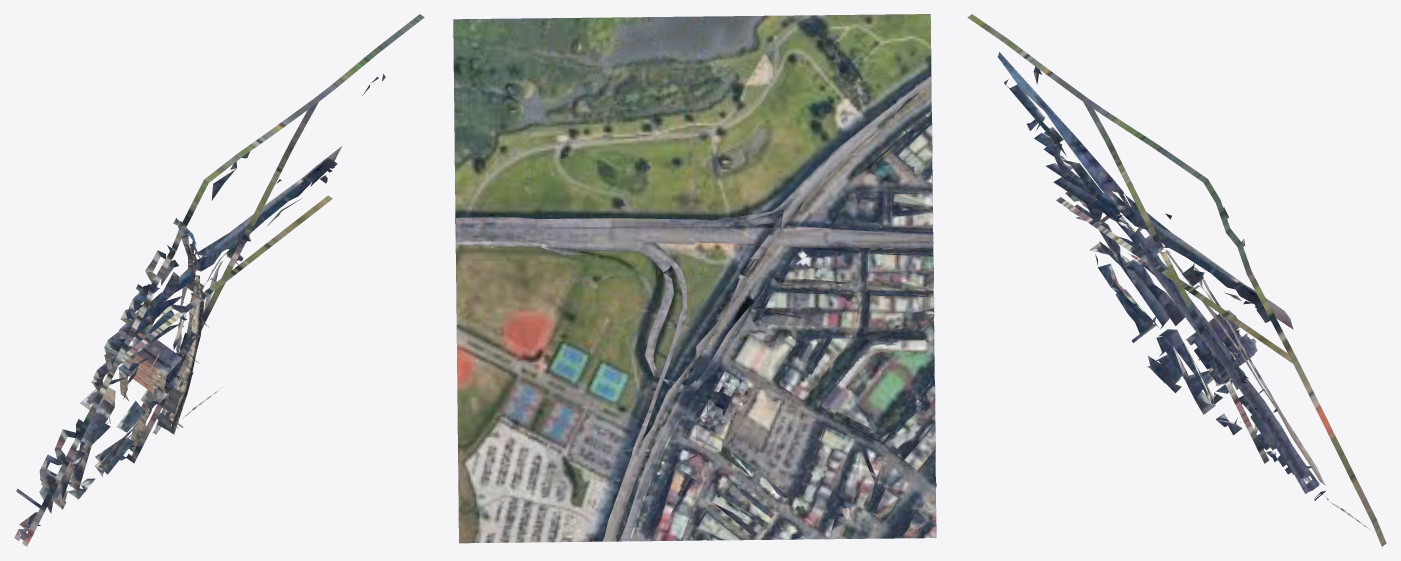
3 views of the same model, side by side, from view 1: azimuth 30°, elevation 25°; view 2: azimuth 150°, elevation 25°; view 3: azimuth 270°, elevation 25° (orthographic). The views are drawn at different scales.
Bounding box in the file's own units: 617 × 560 × 511.
Materials: 2 (2 with a texture image).
